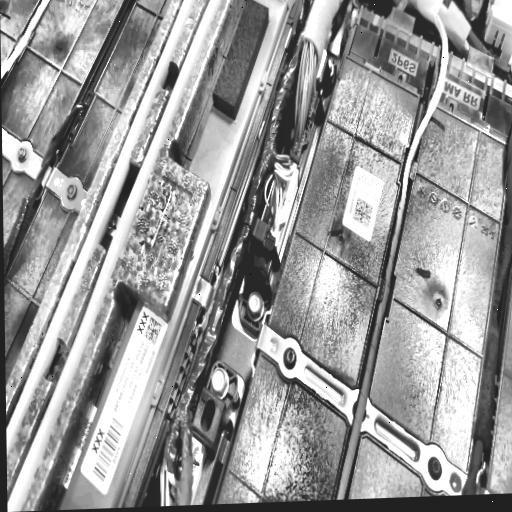busbar: (57, 0, 296, 510)
high_volt_cable: (7, 0, 223, 512), (6, 0, 195, 461), (333, 0, 478, 500), (288, 0, 349, 151)
low_volt_cable: (159, 27, 305, 506), (4, 0, 135, 281), (457, 108, 512, 495)
nut: (208, 367, 230, 403), (245, 287, 264, 323), (283, 347, 298, 371), (64, 180, 79, 204), (428, 457, 442, 481), (15, 143, 27, 166)
